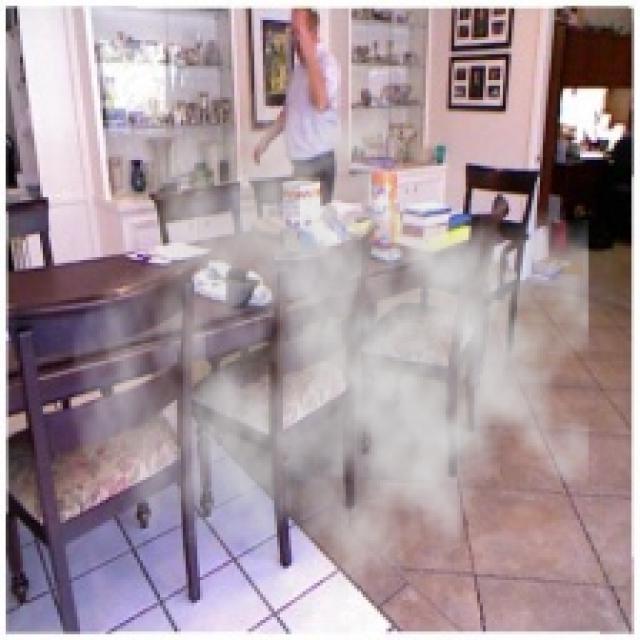smoke: (69, 83, 588, 637)
